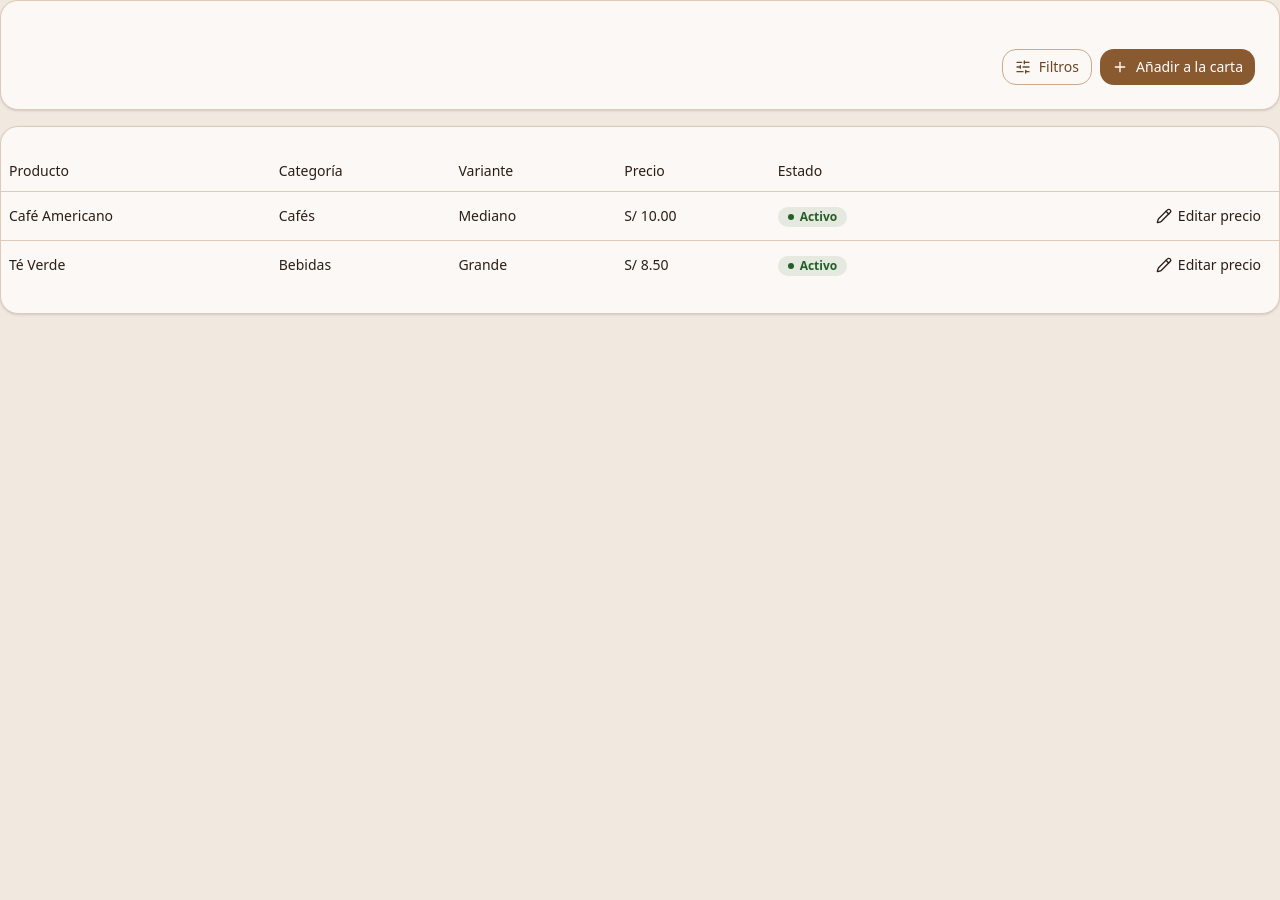
Test: Carta por sucursal › muestra el 400 del servidor con un precio fuera de rango
Click the button "Editar precio" in the row of "Café Americano" at (1208, 216), box [1146,200,1271,232]
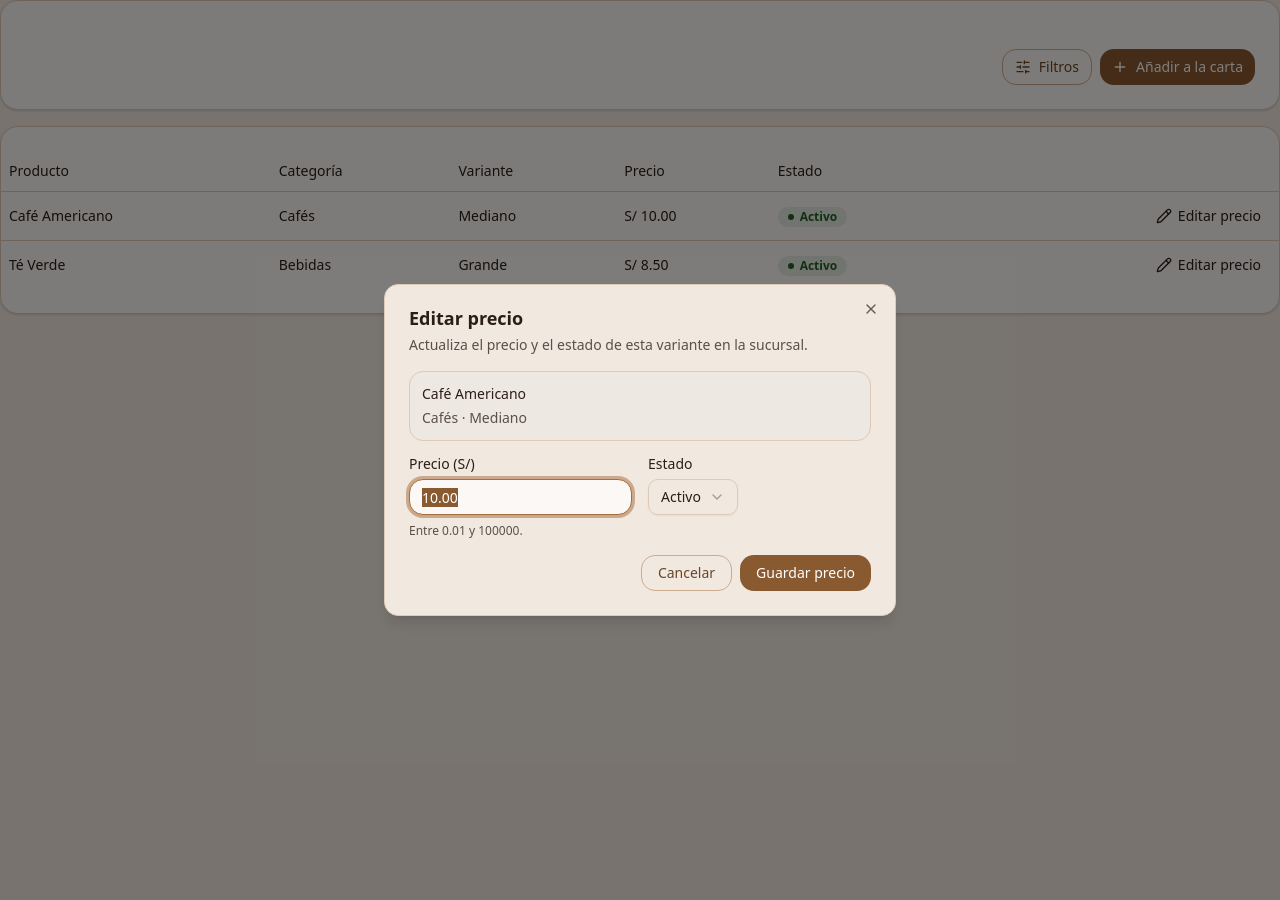
Replace the text in the field labelled "Precio (S/)" with "200000" at (520, 497), box [409,479,632,515]
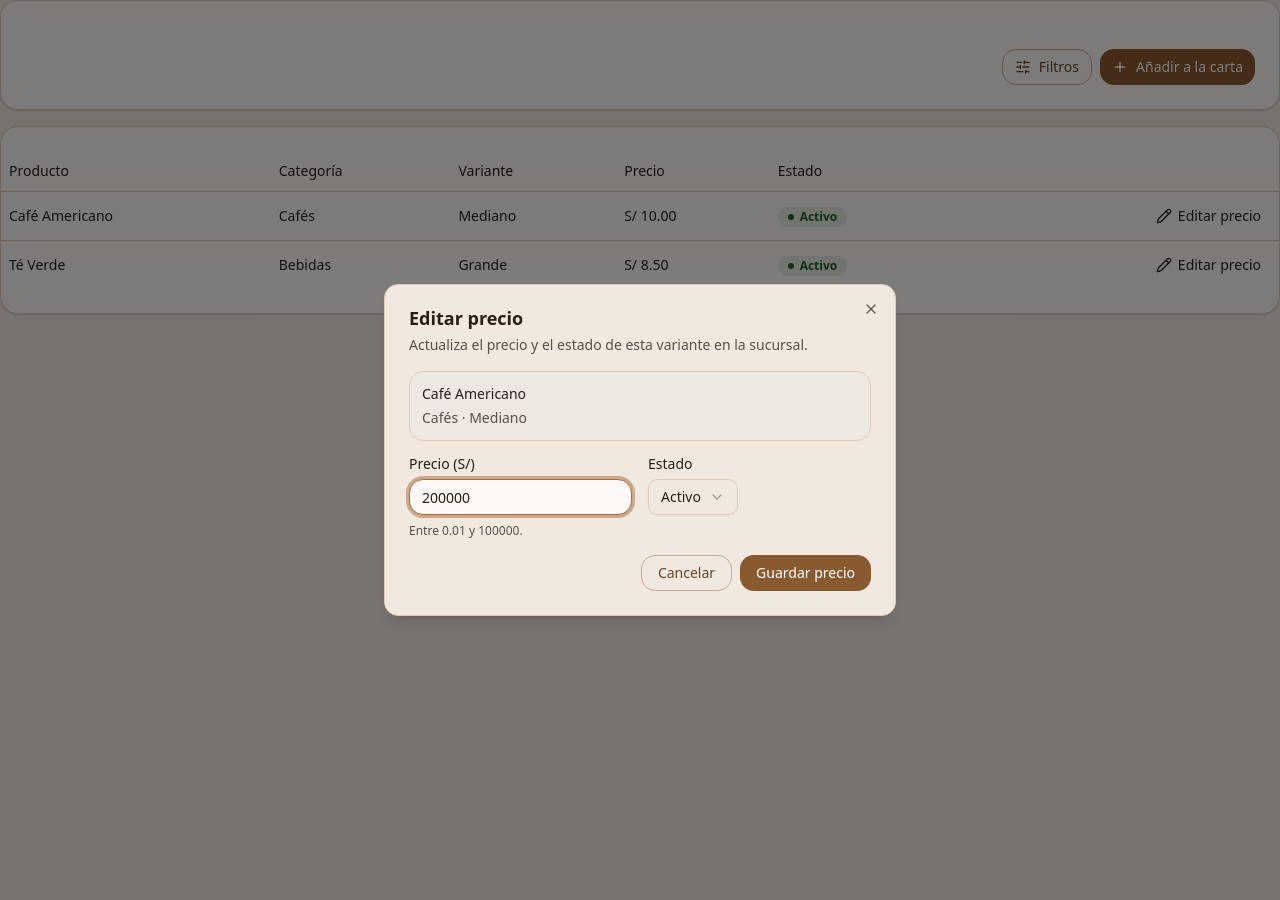
Click the button "Guardar precio" at (806, 573), box [740,555,871,591]
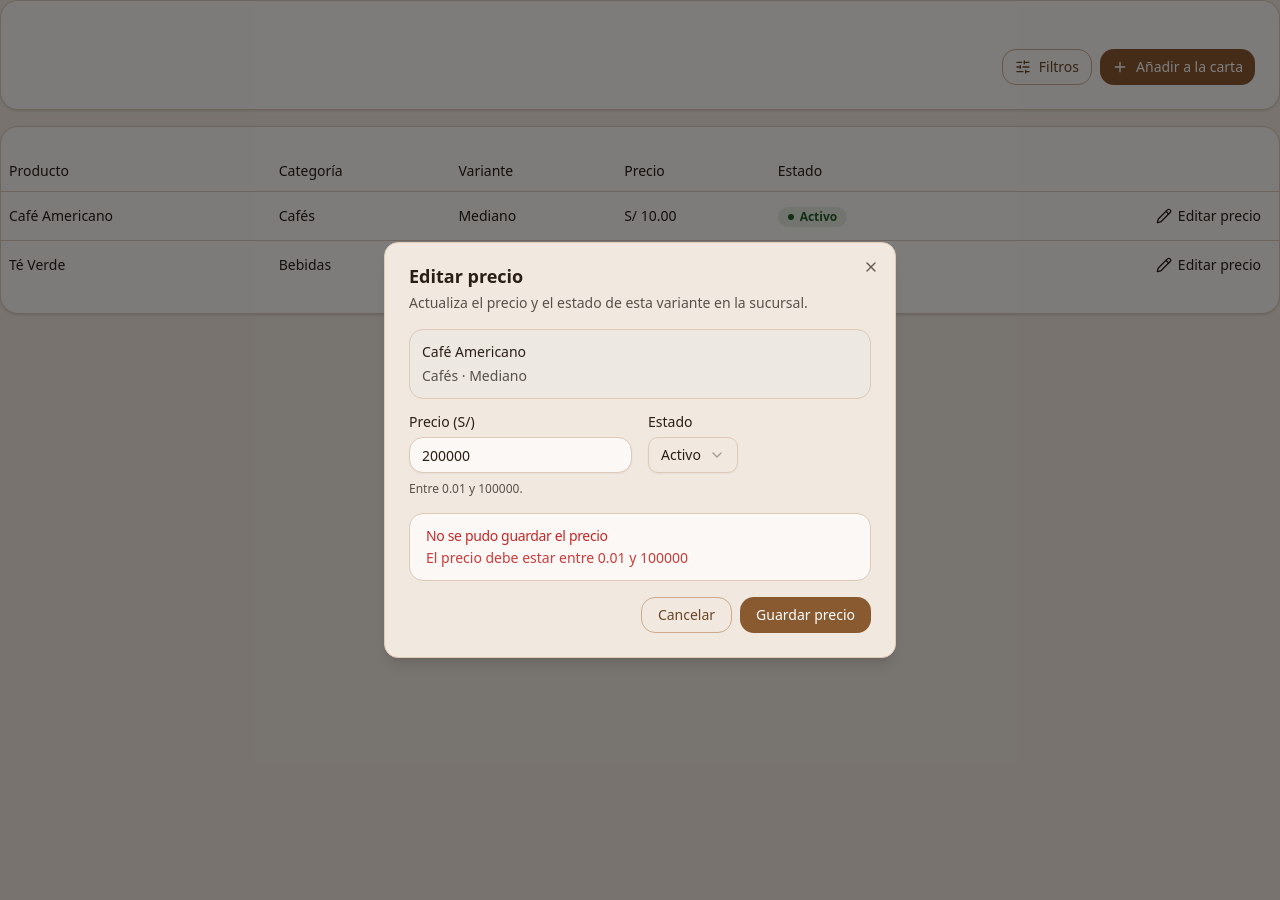
Result: the text "El precio debe estar entre 0.01 y 100000" is shown at [426,548,688,567]
